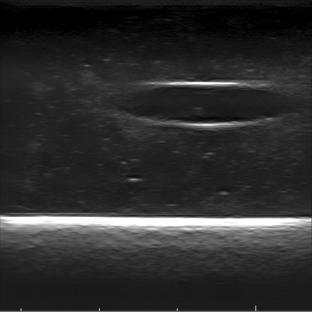vessel: (119, 79, 284, 130)
